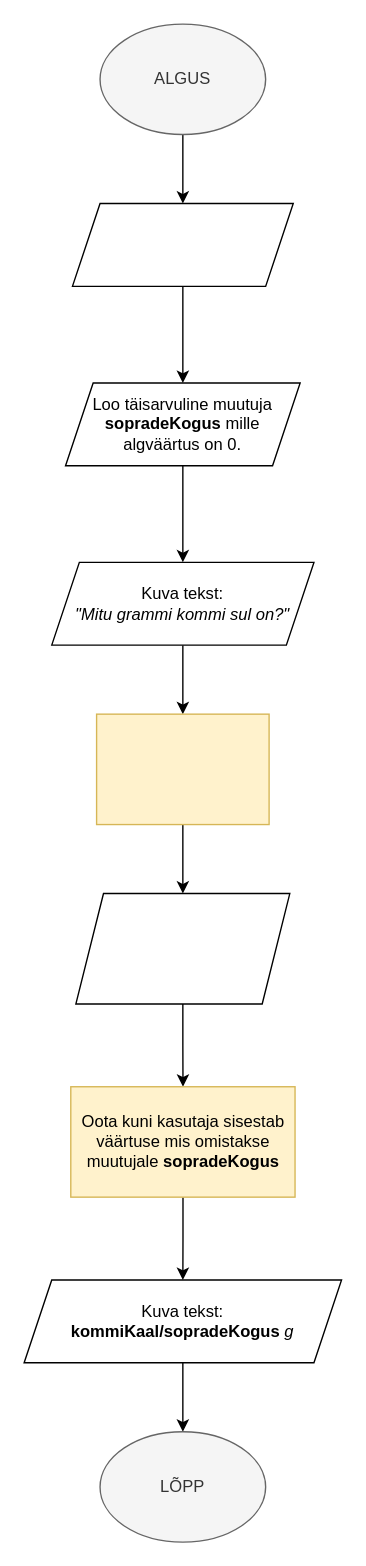
This 366x1566 diagram has some shape labels left out. The centre of each missing label's shape, as x and y in pixels:
Kuva tekst: "Kui mitu sõpra sul on?": (182,948)
Loo murdarv muutuja kommiKaal mille algväärtus on 0.: (182,244)
Oota kuni kasutaja sisestab väärtuse mis omistakse muutujale kommiKaal: (182,769)
